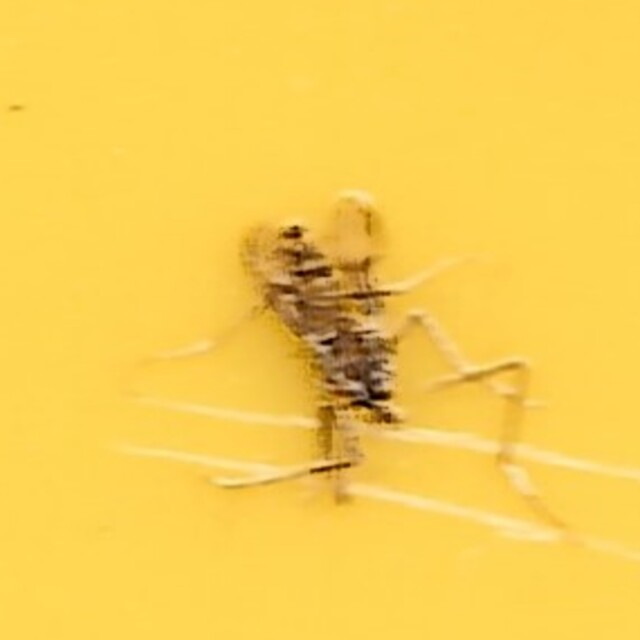Nematocera: (225, 191, 415, 449)
